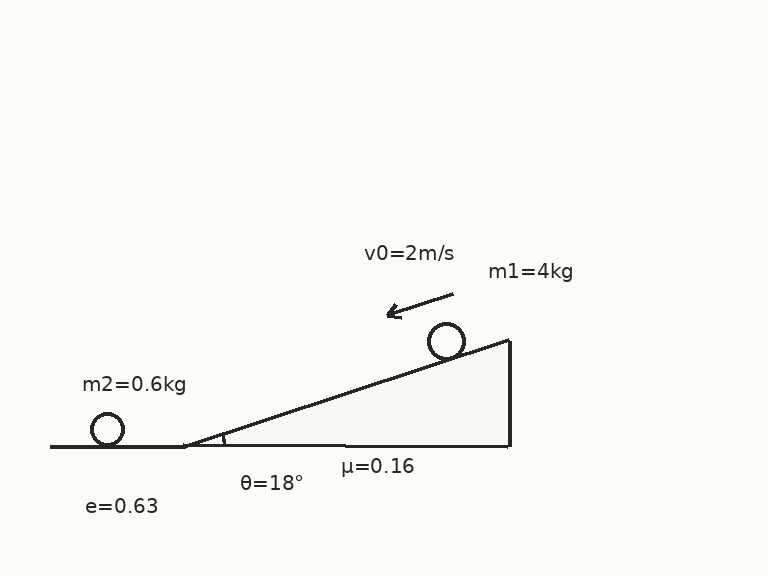ball: (425, 320, 467, 362), (88, 410, 126, 448)
ramp: (182, 339, 510, 448)
